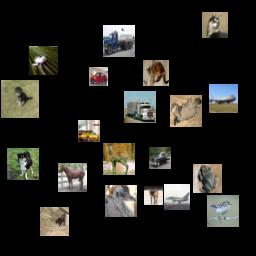airplane: (209, 84, 238, 113), (164, 184, 190, 210)
automobile: (78, 120, 100, 142), (149, 147, 171, 169), (89, 67, 108, 86)
bird: (207, 195, 239, 227), (105, 185, 137, 217)
cat: (170, 95, 202, 127), (40, 207, 69, 236), (143, 60, 169, 86)
deer: (103, 143, 135, 175), (144, 186, 163, 205)
dog: (1, 80, 39, 118), (7, 148, 39, 180), (202, 12, 228, 38)
frog: (29, 46, 58, 75), (193, 164, 222, 193)
truck: (124, 91, 156, 123), (103, 25, 135, 57)
